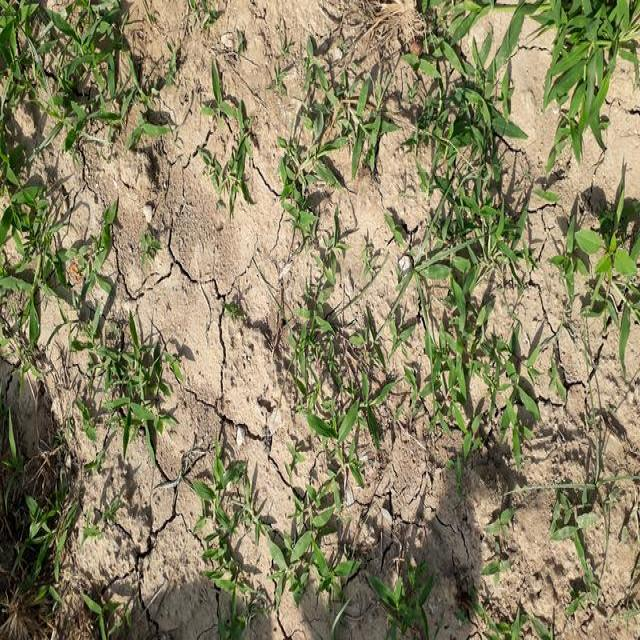weed: (402, 43, 535, 459), (276, 293, 406, 605), (6, 256, 177, 467), (0, 0, 123, 230), (540, 0, 637, 157)
